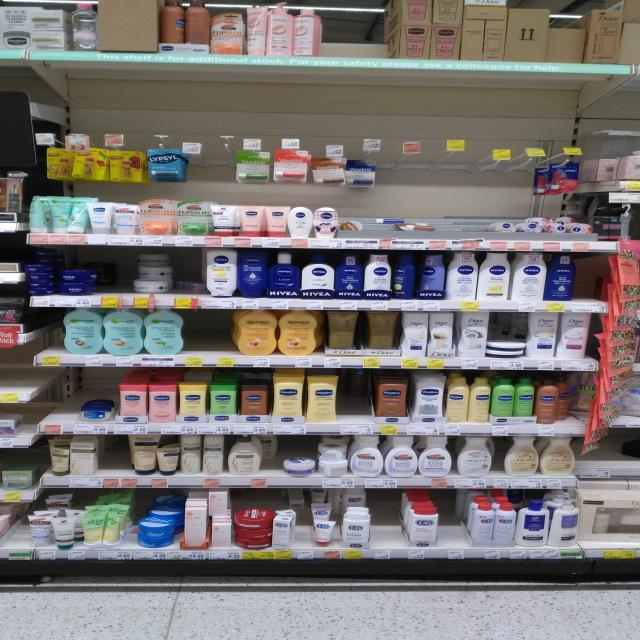empty: (183, 311, 235, 349), (368, 490, 403, 540), (433, 493, 468, 543), (573, 251, 605, 301), (94, 249, 135, 288), (579, 434, 629, 464), (4, 347, 37, 389), (340, 375, 370, 416), (8, 502, 35, 547), (51, 382, 81, 421), (101, 434, 128, 474), (17, 406, 40, 438)
